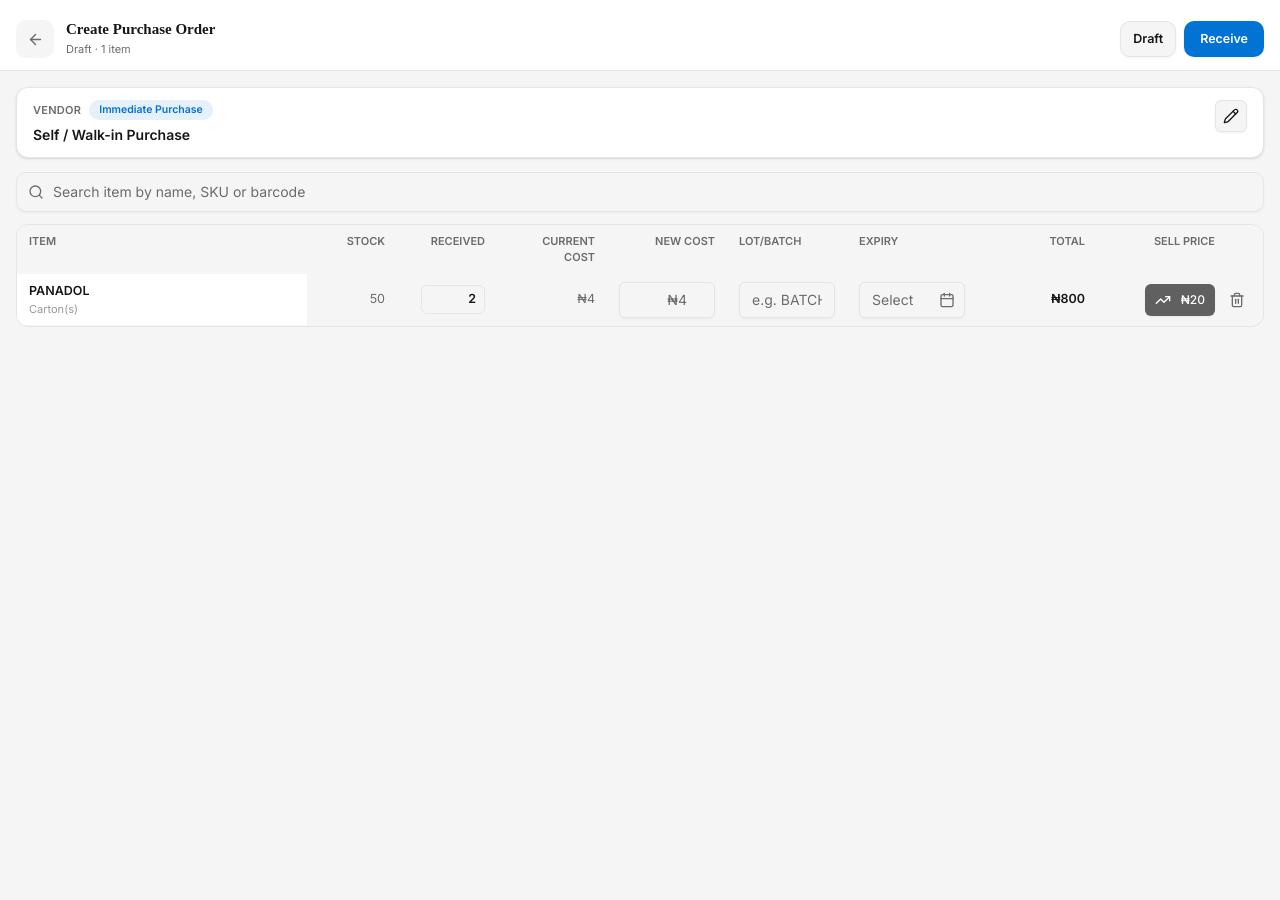
Test: Immediate Purchase submit confirmation › labels and gates the mobile immediate submit the same way
Click the button "Receive". click: (1224, 39)
box: [1184,21,1264,57]
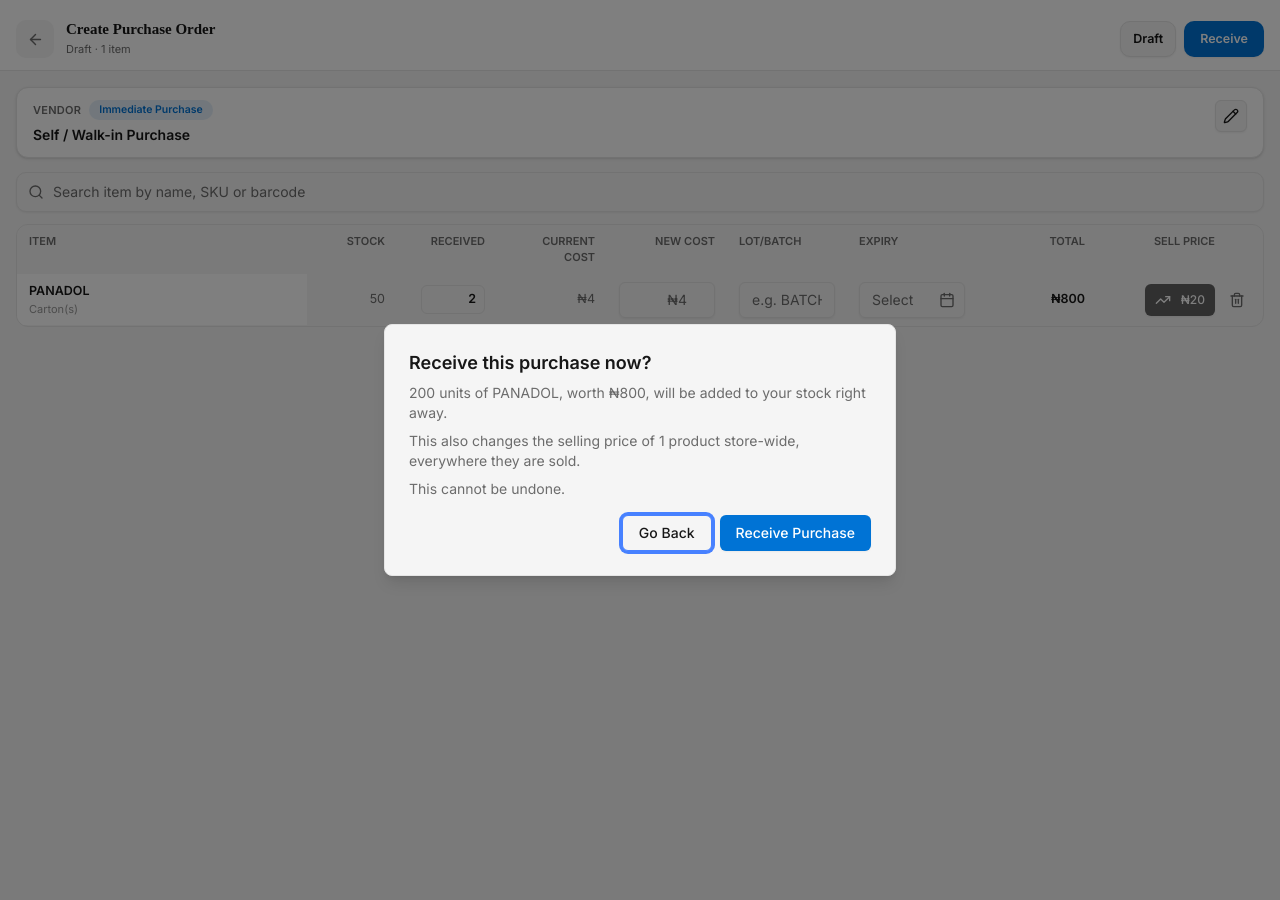
Check: the dialog is shown, box [384,324,896,576]
